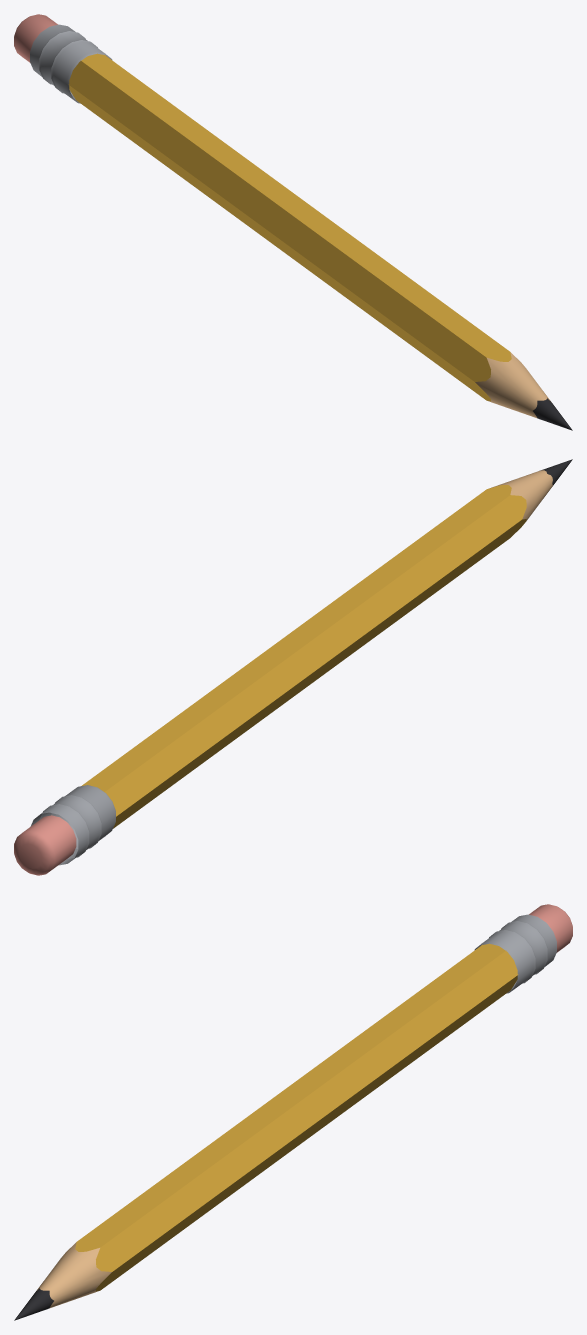
The model's file is Pencil.fbx.
3 views of the same model, one above another, from view 1: azimuth 30°, elevation 25°; view 2: azimuth 150°, elevation 25°; view 3: azimuth 330°, elevation 25° (orthographic).
Parts seen in each view (by area): view 1: Pencil; view 2: Pencil; view 3: Pencil.
Part boxes in pixels (<box>): Pencil: <box>14,14,572,430</box>; Pencil: <box>14,459,572,875</box>; Pencil: <box>14,904,572,1320</box>.
Bounding box in the file's own units: 0.00855 × 0.00855 × 0.1599.
